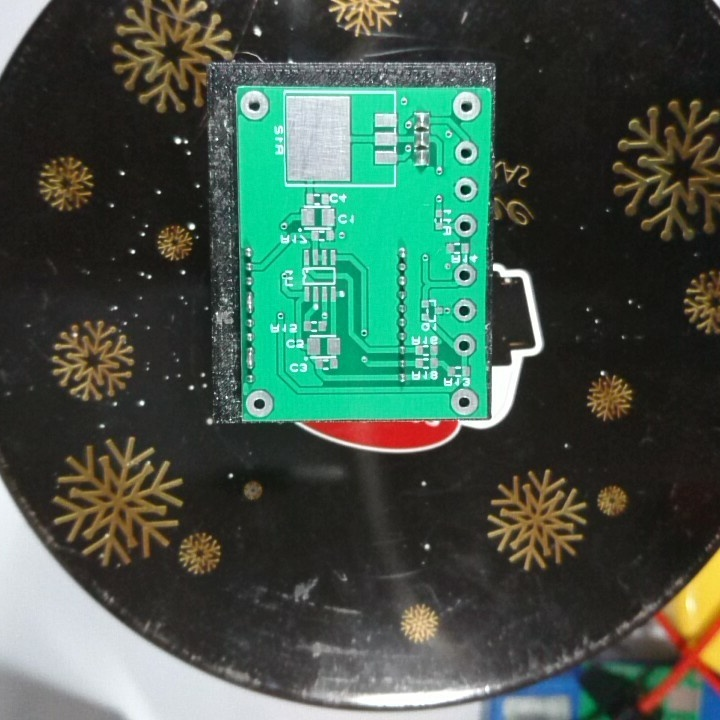F: (238, 88, 272, 123), (450, 89, 482, 124), (242, 387, 277, 419), (448, 386, 482, 418), (451, 260, 480, 290), (452, 174, 480, 203), (451, 212, 482, 238), (452, 138, 480, 166), (452, 298, 479, 326), (452, 332, 478, 358)
P: (242, 289, 259, 317), (242, 343, 259, 370)
